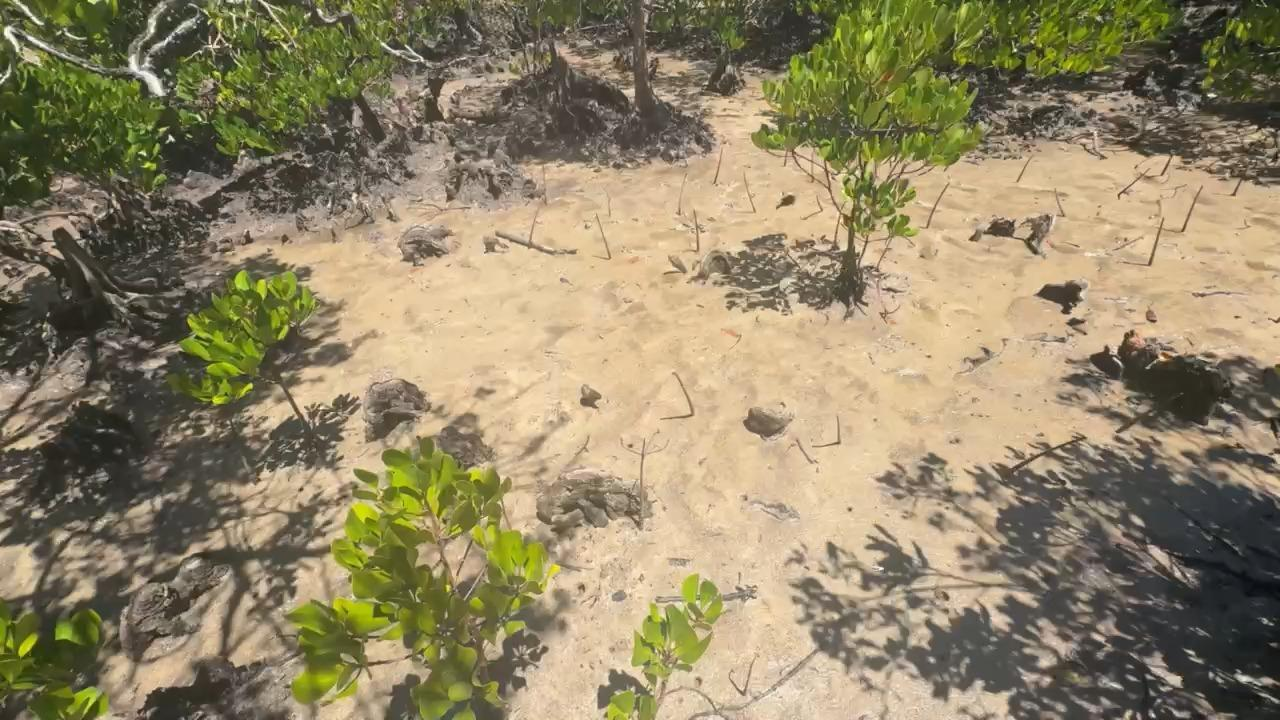Tree: (607, 572, 722, 720), (1008, 436, 1087, 473), (1116, 392, 1183, 433), (875, 215, 920, 274), (926, 182, 950, 229), (671, 372, 694, 416), (1182, 186, 1203, 233), (1117, 168, 1150, 197), (1148, 216, 1164, 266), (595, 213, 611, 259), (638, 440, 646, 529), (1232, 160, 1250, 197), (832, 201, 845, 248), (742, 655, 756, 696), (742, 171, 755, 212), (1016, 155, 1033, 182), (677, 173, 688, 214), (527, 208, 538, 247), (712, 148, 722, 184), (692, 210, 700, 251), (1054, 188, 1065, 216), (541, 162, 548, 205), (1161, 154, 1173, 177), (814, 195, 823, 212), (837, 415, 842, 445), (810, 154, 814, 183), (606, 191, 610, 214)
